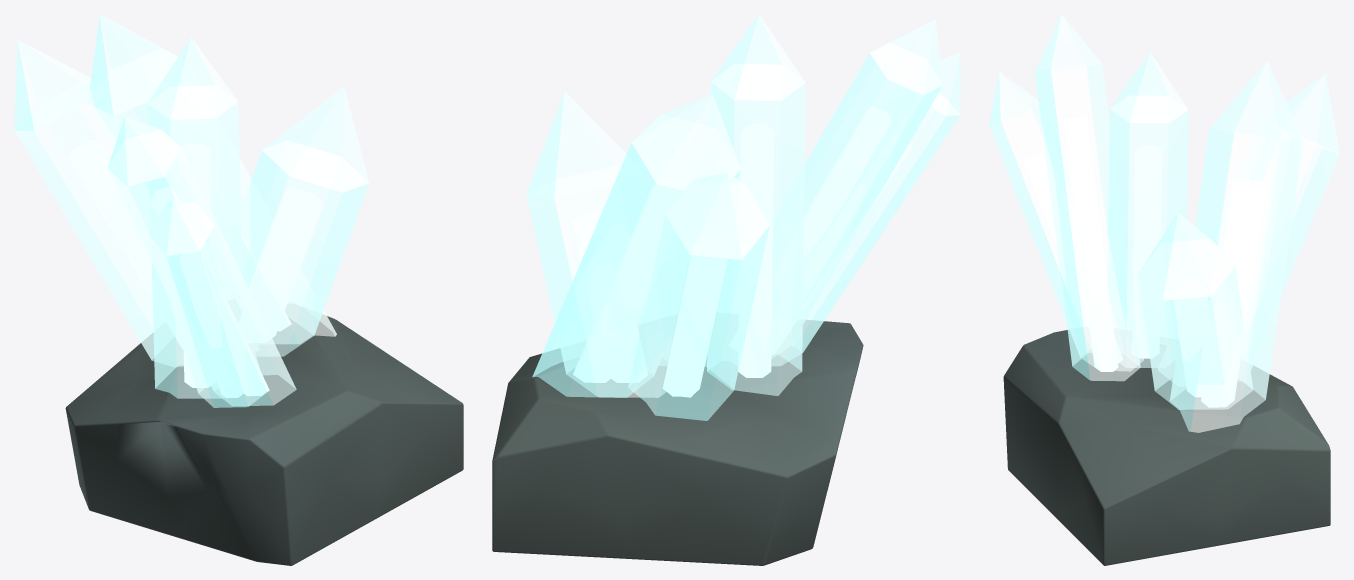
The model's file is grotto_echo_crystal.glb.
3 views of the same model, side by side, from view 1: azimuth 30°, elevation 25°; view 2: azimuth 150°, elevation 25°; view 3: azimuth 270°, elevation 25° (orthographic). The views are drawn at different scales.
Visible parts, largest first — view 1: grotto_echo_crystal; view 2: grotto_echo_crystal; view 3: grotto_echo_crystal.
Part boxes in pixels (x1=…): grotto_echo_crystal: x1=14, y1=14, x2=463, y2=565; grotto_echo_crystal: x1=492, y1=14, x2=960, y2=565; grotto_echo_crystal: x1=989, y1=14, x2=1339, y2=565.
Size of the model in its own units: 3.56 by 4.4 by 3.41.
